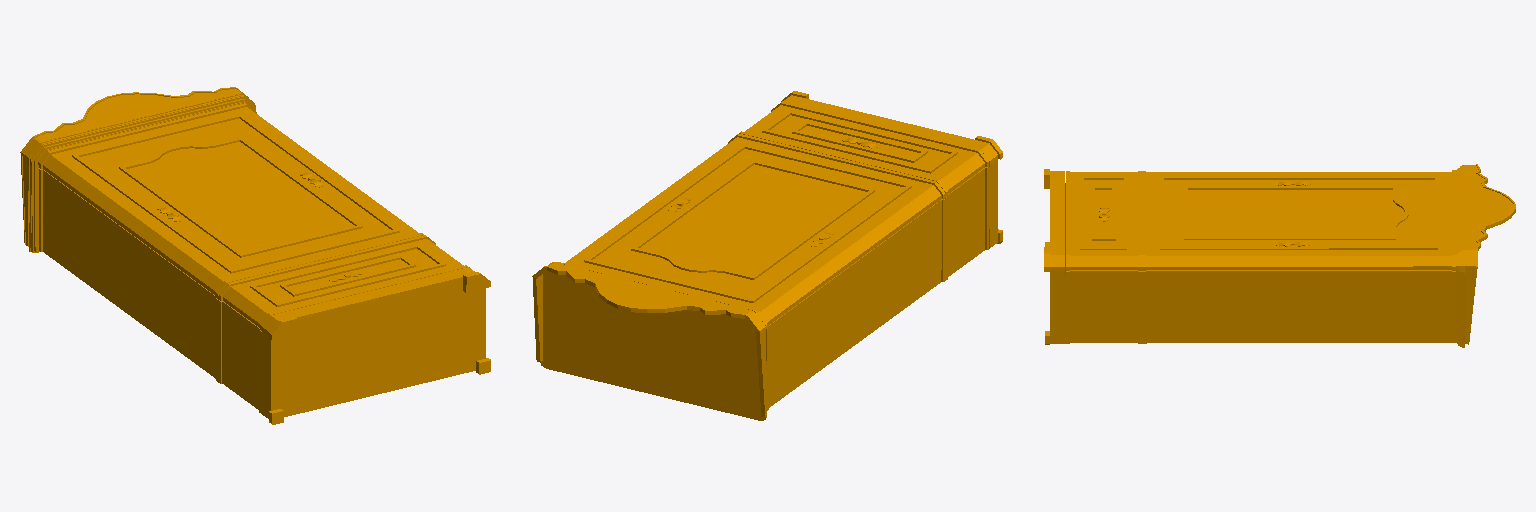
The robot description file, URDF, robot "none":
<robot name="none">
       <link name="none">
           <visual>
               <origin rpy="-1.57 0 0" xyz="0 0 0" />
               <geometry>
                   <mesh filename="10258_Wardrobe_v1_L1.obj"  scale="0.01 0.01 0.01"/>
               </geometry>
           </visual>
          <collision>
<origin rpy="1.57 0 0" xyz="0 0 1" />
              <geometry>
                  <box size="1.5 2 0.8" />
              </geometry>
          </collision>

          <inertial>
            <mass value="0.0" />
            <inertia ixx="0.05" ixy="0.0" ixz="0.0" iyy="0.05" iyz="0.0" izz="0.05"/>
          </inertial>
      </link>
  </robot>

--- Facts derived from the render (not from the file) ---
3 views of the same robot in one strip: view 1: azimuth 30°, elevation 25°; view 2: azimuth 150°, elevation 25°; view 3: azimuth 270°, elevation 25° (orthographic).
Robot: none — 1 links, 0 joints (none); root link none; default pose: all joints at 0.
Visible links, largest first — view 1: none; view 2: none; view 3: none.
Boxes of the visible links, <box> form: none: <box>20,87,490,424</box>; none: <box>532,91,1002,420</box>; none: <box>1044,164,1515,347</box>.
Size in the robot's own frame: 1.25 by 2.54 by 0.5716 metres.
1 mesh visuals loaded from 1 distinct referenced files (1 OBJ).